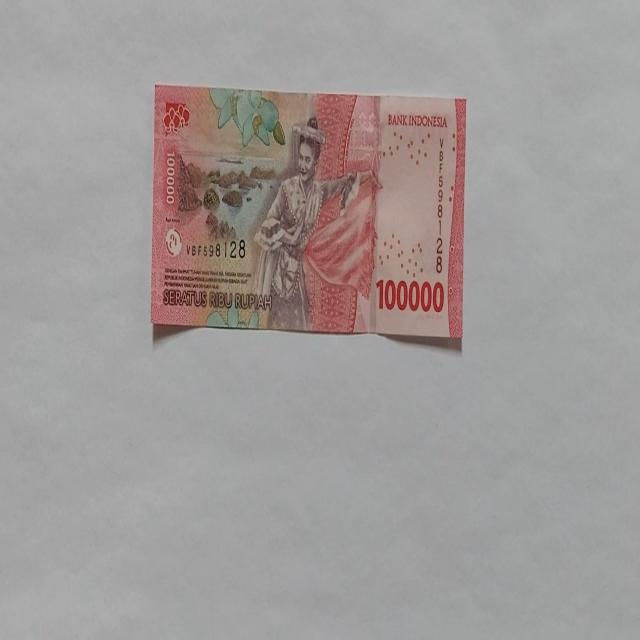seratus ribu rupiah: (150, 85, 467, 345), (250, 116, 360, 330)
